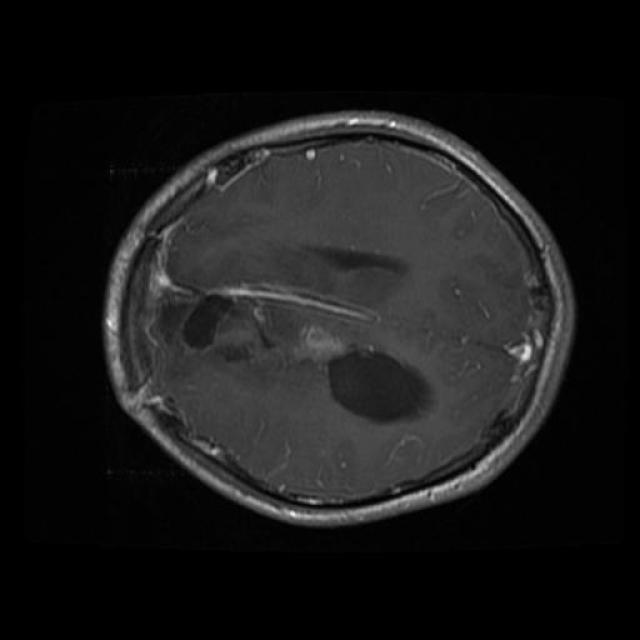Glioma: (328, 349, 428, 422), (183, 297, 236, 349)
